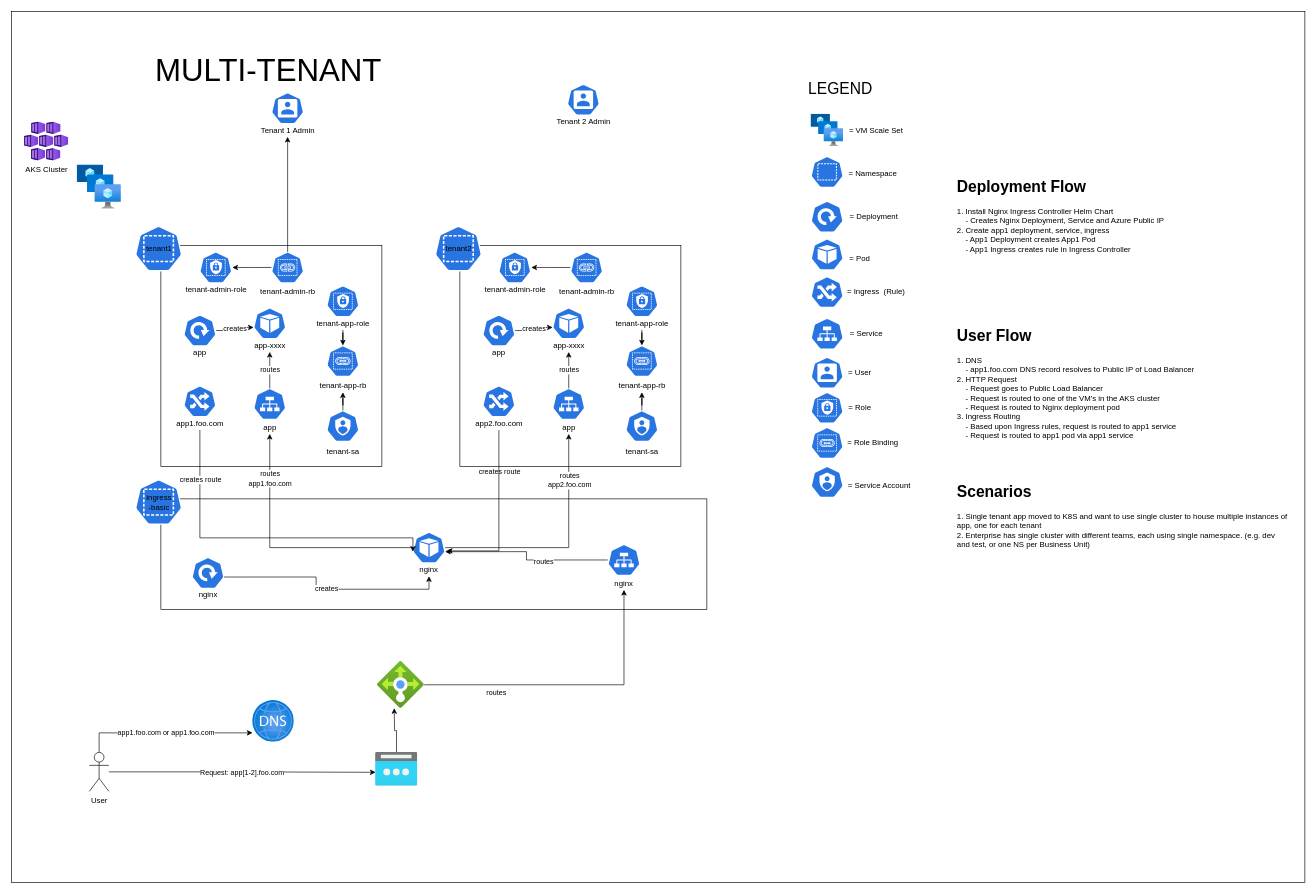
The diagram is 1316 pixels wide and 894 high, and some of its shapes have lost their labels. Here are the shapes that lost their labels. From the top down, the centre of each, then its label:
At (99,186): "AKS Nodes".
At (400,684): "Public Load Balancer".
At (396,769): "Public IP".
